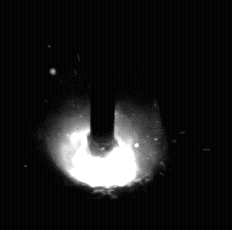arame: (91, 0, 116, 156)
poca: (44, 0, 164, 230)
